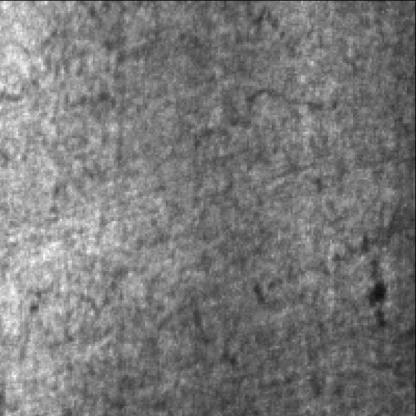crazing: (245, 6, 364, 119)
